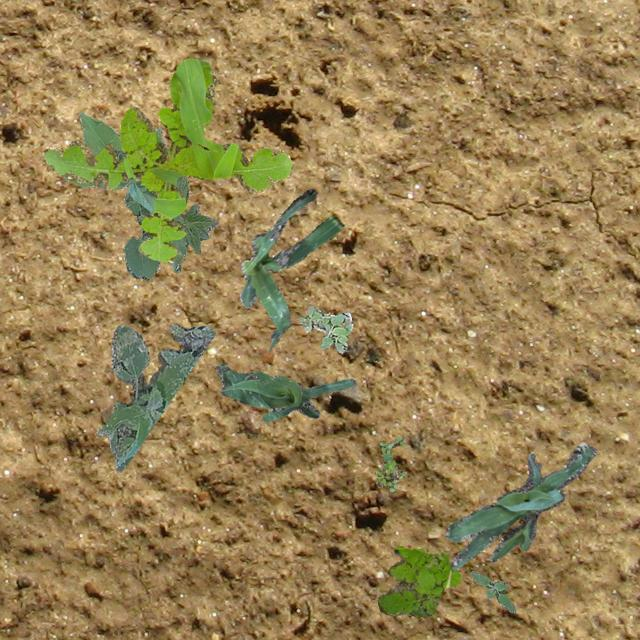crop: (444, 441, 596, 568), (238, 188, 342, 346), (62, 110, 162, 212), (122, 174, 218, 278), (214, 362, 354, 420)
weed: (42, 58, 290, 262), (96, 322, 215, 470), (376, 544, 459, 616), (298, 304, 352, 352), (470, 570, 514, 612), (374, 436, 406, 492)
